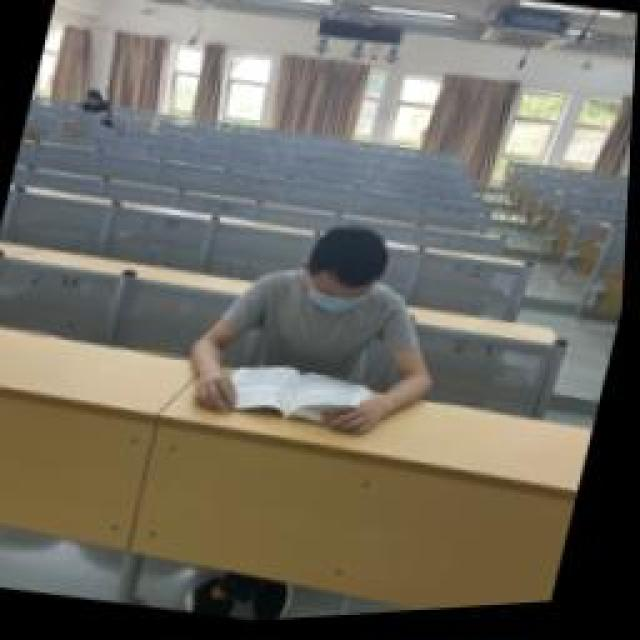study: (180, 200, 475, 462)
